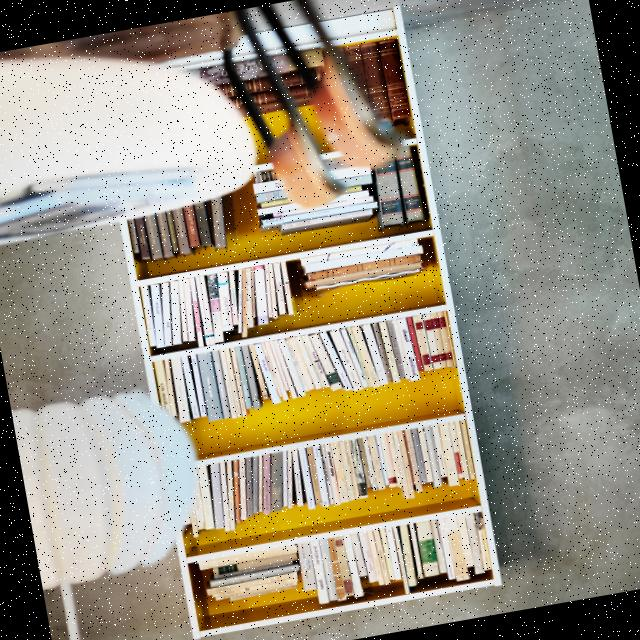Shelf: (79, 0, 515, 640)
